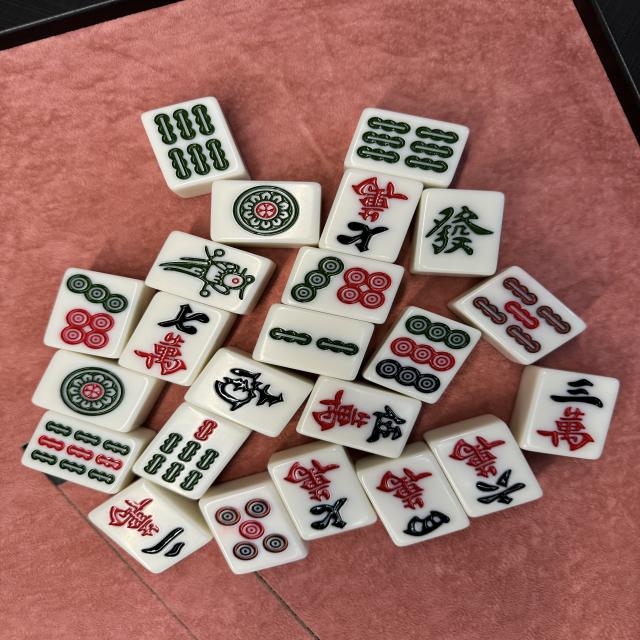hdg: (413, 188, 504, 276)
hws: (184, 348, 316, 438)
sb1: (145, 231, 272, 315)
sb2: (256, 305, 375, 381)
sb5: (451, 266, 586, 364)
sb6: (343, 108, 469, 186), (141, 96, 244, 188)
sb7: (131, 402, 252, 500)
sb9: (22, 410, 143, 494)
sc2: (87, 479, 213, 572)
sc3: (523, 369, 620, 461)
sc4: (358, 451, 471, 546)
sc5: (298, 376, 423, 460)
sc6: (432, 420, 543, 516)
sc7: (117, 291, 230, 386), (268, 446, 376, 541), (316, 168, 422, 262)
sd1: (32, 348, 155, 433), (210, 180, 323, 246)
sd5: (202, 482, 308, 574)
sd7: (281, 247, 404, 324), (43, 267, 143, 359)
sd9: (366, 306, 482, 404)
